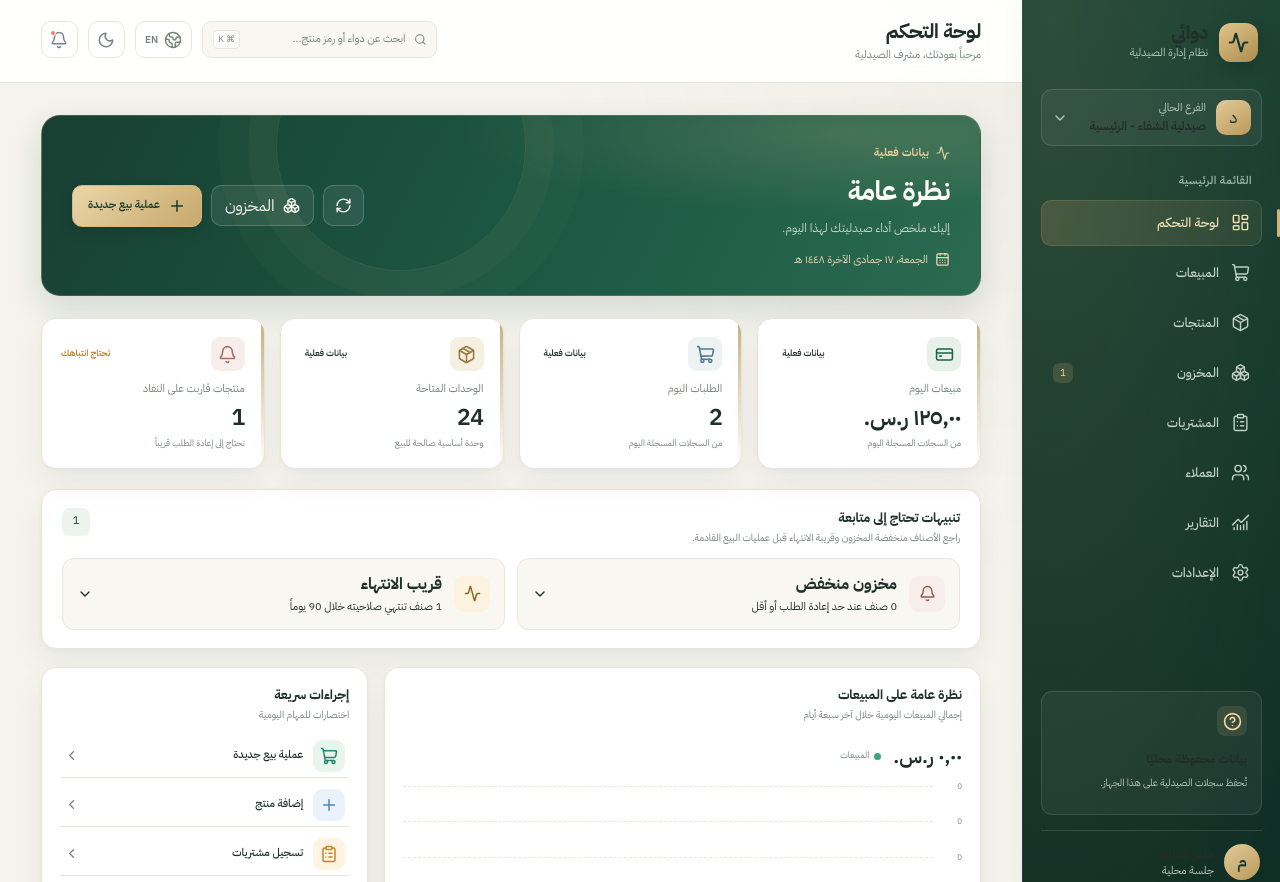
main application shell › starts in Arabic with right-to-left layout and switches to English
Check: the heading "نظرة عامة" is shown, box [847,171,950,211]
Click the button with aria-label "التبديل إلى الإنجليزية".
click(164, 40)  # box [135,21,192,58]
(page scrolled)
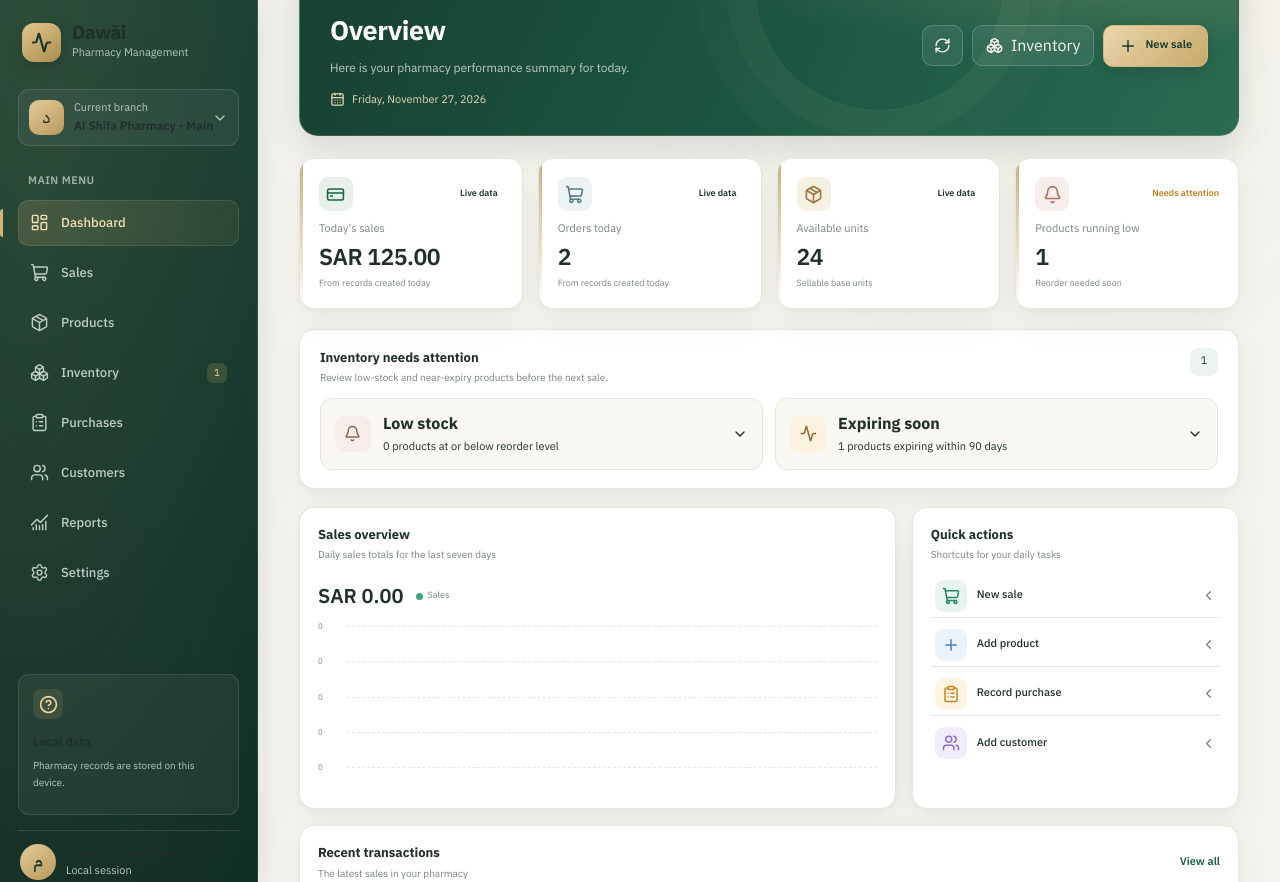
Check: the heading "Overview" is shown, box [330,11,446,51]
